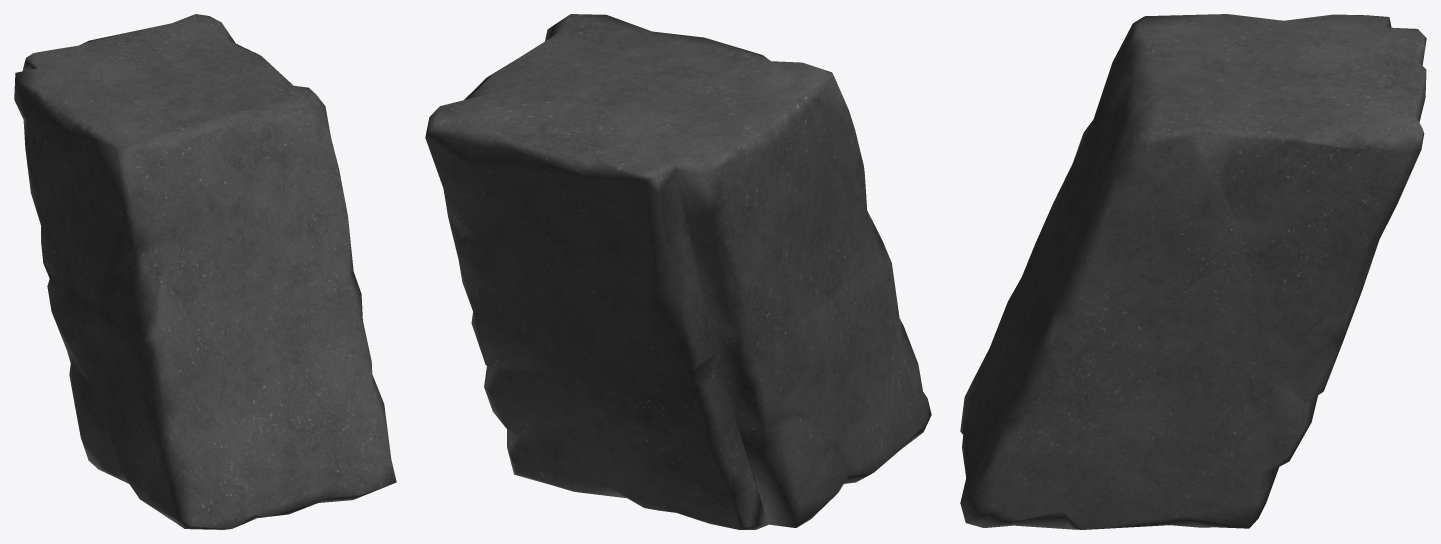
The model's file is SM_ColumnSegmentAngled2.fbx.
The picture shows the model from 3 angles, left to right: view 1: azimuth 30°, elevation 25°; view 2: azimuth 150°, elevation 25°; view 3: azimuth 270°, elevation 25°; orthographic projection. The views are drawn at different scales.
Visible parts, largest first — view 1: SM_ColumnSegmentAngled2_LOD0; view 2: SM_ColumnSegmentAngled2_LOD0; view 3: SM_ColumnSegmentAngled2_LOD0.
Boxes of the visible parts, bbox=[...] form: SM_ColumnSegmentAngled2_LOD0: bbox=[14, 14, 396, 529]; SM_ColumnSegmentAngled2_LOD0: bbox=[425, 14, 931, 529]; SM_ColumnSegmentAngled2_LOD0: bbox=[960, 14, 1426, 529].
Bounding box in the file's own units: 83.38 × 132 × 125.
1 material, 1 textured.
